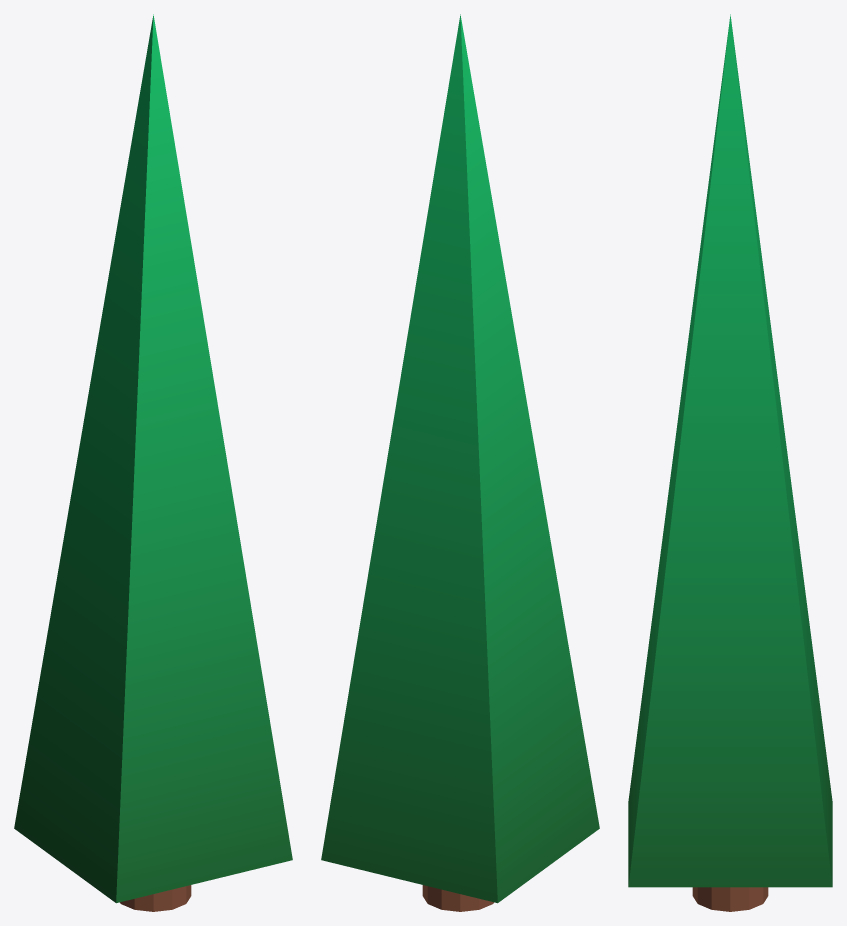
Rendered from Tree_19_gradient_green.fbx.
3 views of the same model, side by side, from view 1: azimuth 30°, elevation 25°; view 2: azimuth 150°, elevation 25°; view 3: azimuth 270°, elevation 25° (orthographic).
Visible parts, largest first — view 1: Tree_19_gradient_green; view 2: Tree_19_gradient_green; view 3: Tree_19_gradient_green.
Part boxes in pixels (bbox=[...]): Tree_19_gradient_green: bbox=[14, 14, 292, 911]; Tree_19_gradient_green: bbox=[321, 14, 599, 911]; Tree_19_gradient_green: bbox=[628, 14, 832, 911].
Size of the model in its own units: 59.69 by 285 by 59.69.
